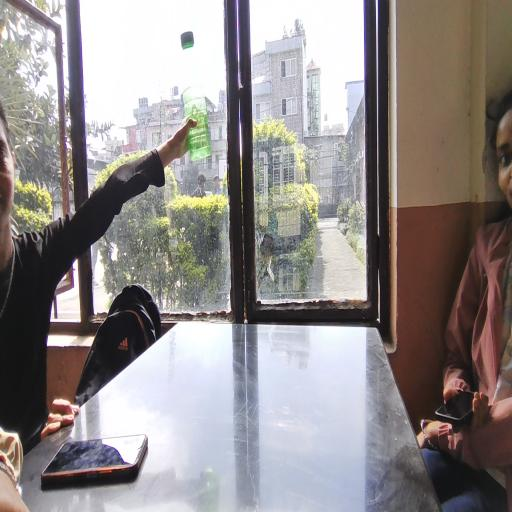Bottle: (170, 33, 221, 171)
